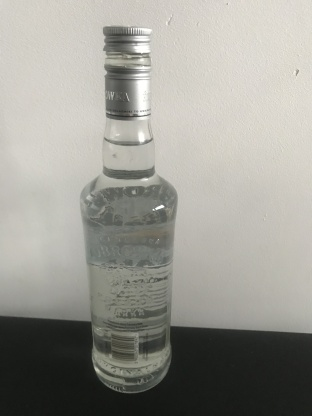nakretka: (101, 24, 153, 121)
